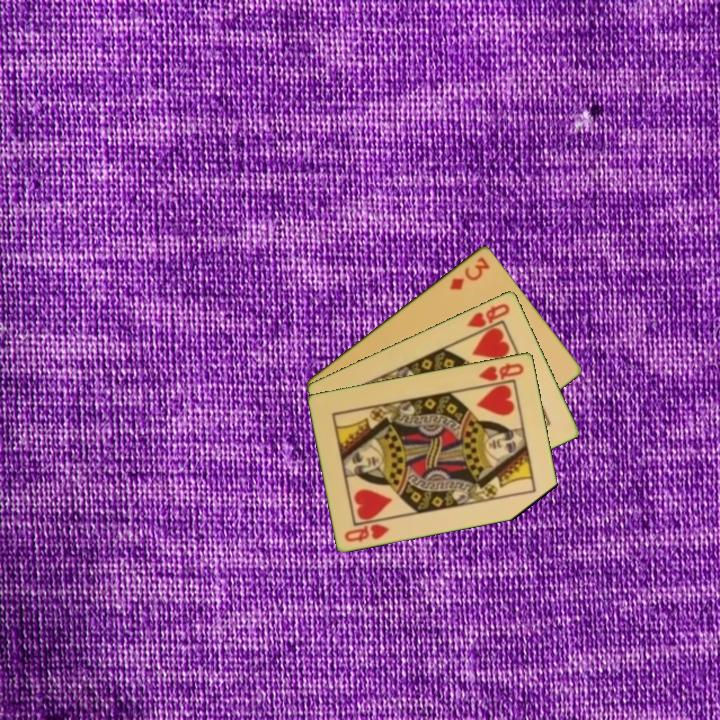3d: (446, 253, 493, 293)
Qh: (464, 299, 513, 330), (475, 359, 527, 384), (341, 520, 393, 545)
